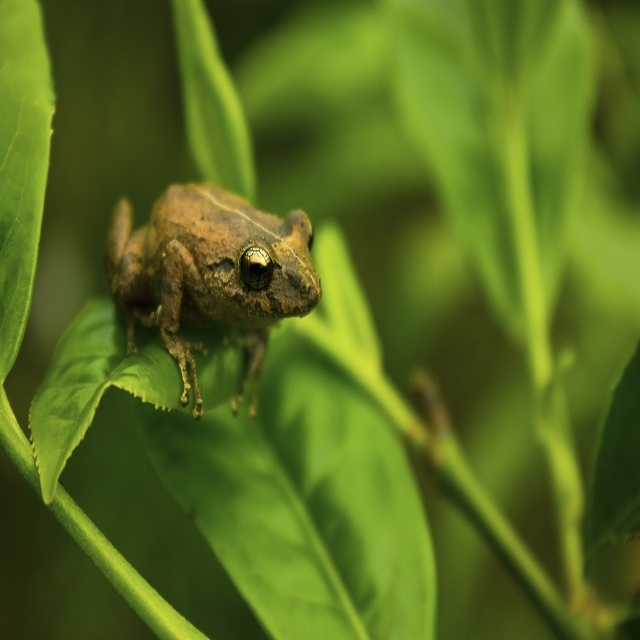Frog: (99, 177, 322, 434)
